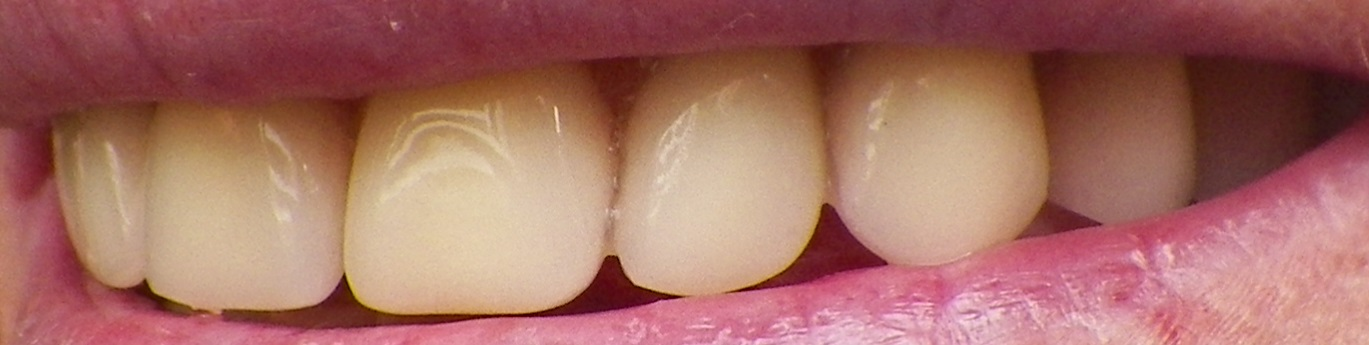boca: (33, 72, 1324, 314)
